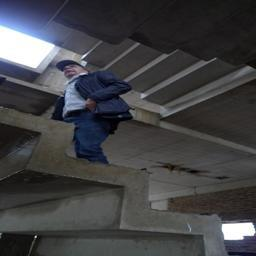no hat: (51, 49, 91, 82)
no vest: (61, 73, 125, 141)
